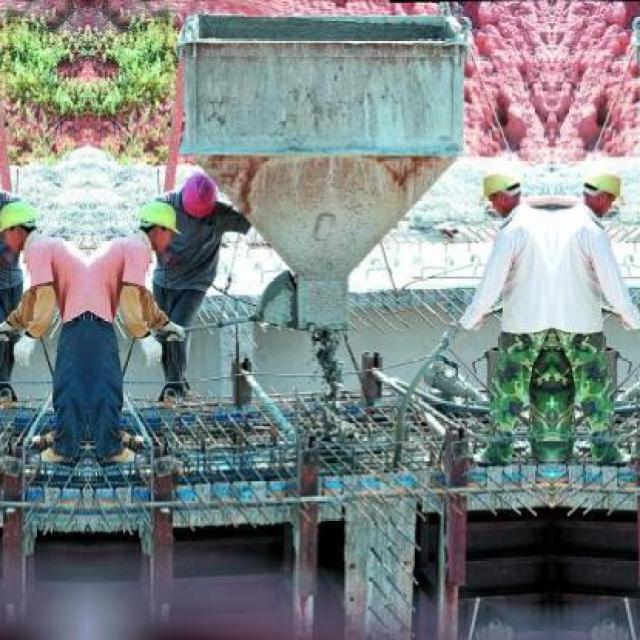helmet: (136, 197, 182, 252), (176, 169, 220, 225), (0, 197, 42, 254), (479, 159, 523, 210), (578, 159, 622, 210)
